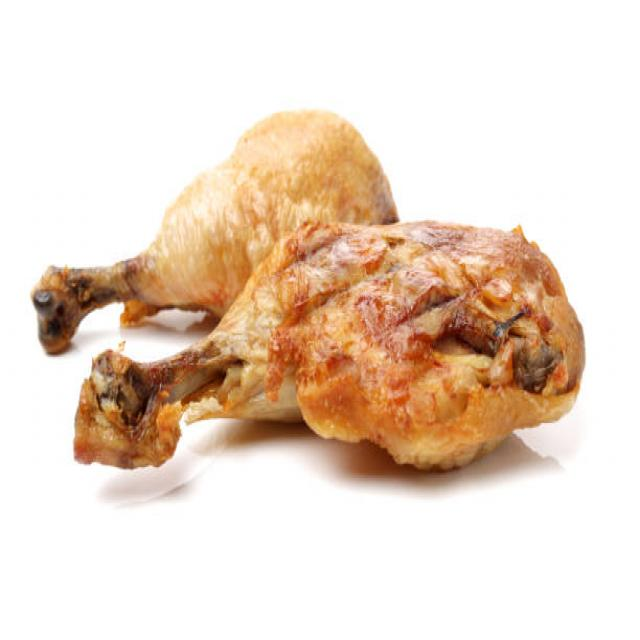chicken thigh: (81, 210, 586, 474)
